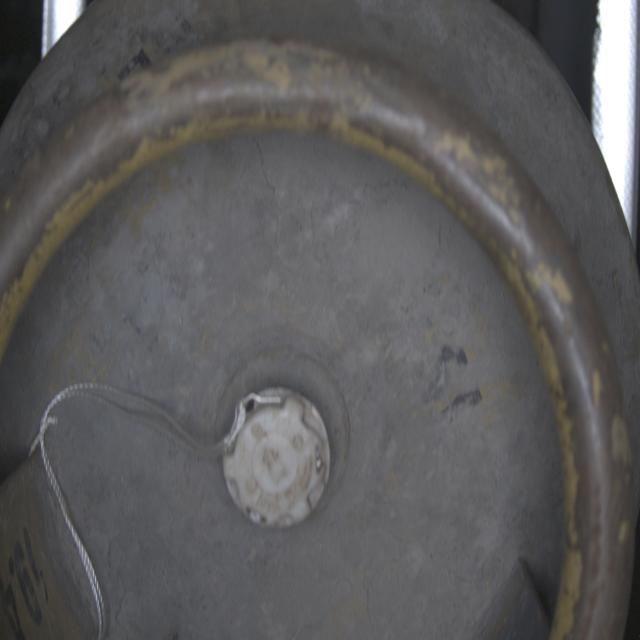Cap: (218, 380, 340, 541)
